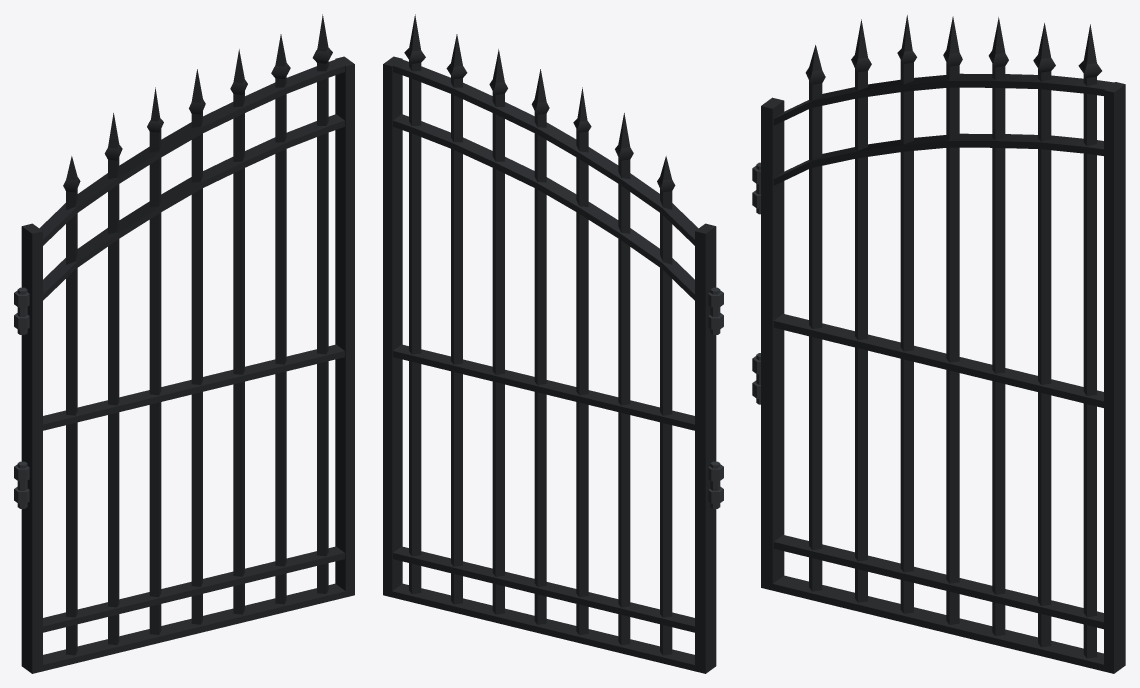
Rendered from SM_Bld_Fence_Gate_01.fbx.
The picture shows the model from 3 angles, left to right: view 1: azimuth 30°, elevation 25°; view 2: azimuth 150°, elevation 25°; view 3: azimuth 330°, elevation 25°; orthographic projection. The views are drawn at different scales.
Visible parts, largest first — view 1: SM_Bld_Fence_Gate_01; view 2: SM_Bld_Fence_Gate_01; view 3: SM_Bld_Fence_Gate_01.
Boxes of the visible parts, x1,y1,x2,y2 form: SM_Bld_Fence_Gate_01: [14, 14, 354, 673]; SM_Bld_Fence_Gate_01: [383, 14, 723, 673]; SM_Bld_Fence_Gate_01: [752, 15, 1125, 673].
Size of the model in its own units: 187 by 312 by 11.93.
